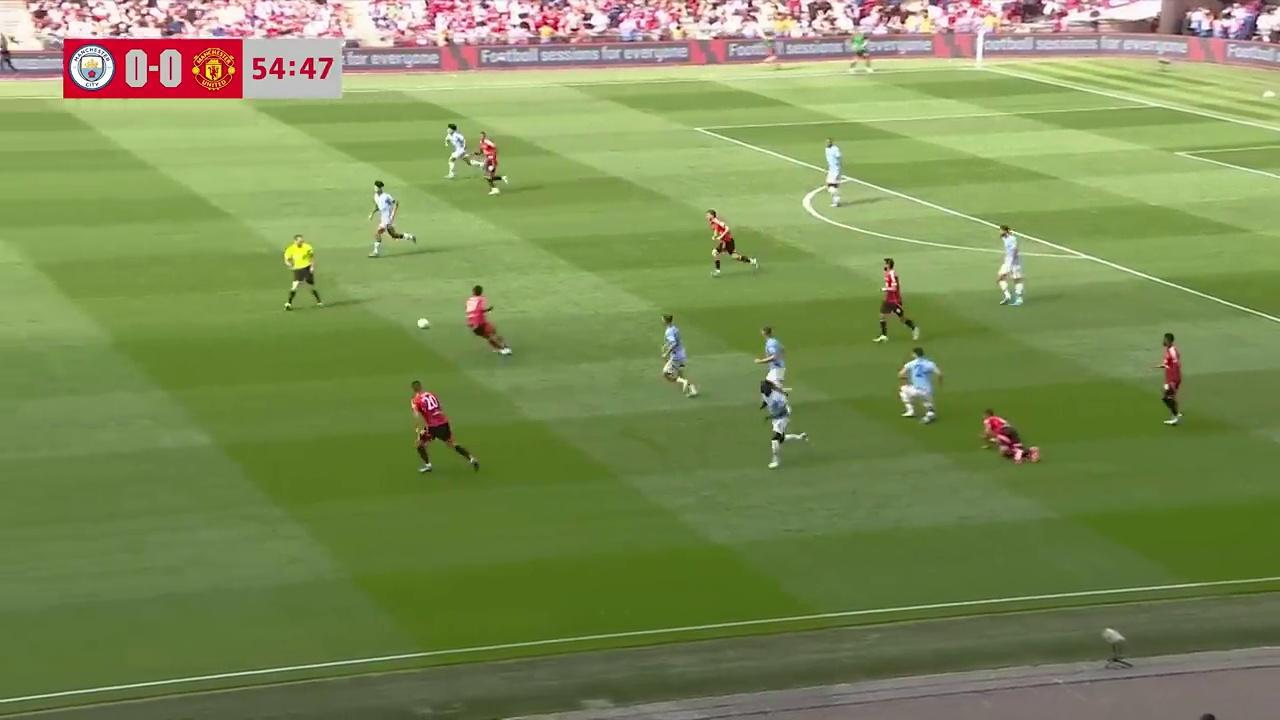ball: (414, 314, 430, 331)
player: (410, 379, 481, 476), (756, 373, 809, 467), (874, 257, 917, 343), (896, 346, 943, 422), (463, 284, 511, 356), (367, 181, 410, 257), (981, 406, 1037, 464), (706, 209, 751, 276), (1152, 332, 1183, 426), (661, 315, 697, 395), (753, 325, 790, 402), (996, 225, 1025, 305), (476, 133, 505, 193), (444, 124, 474, 178), (823, 137, 844, 207)
referee: (282, 233, 323, 310)
